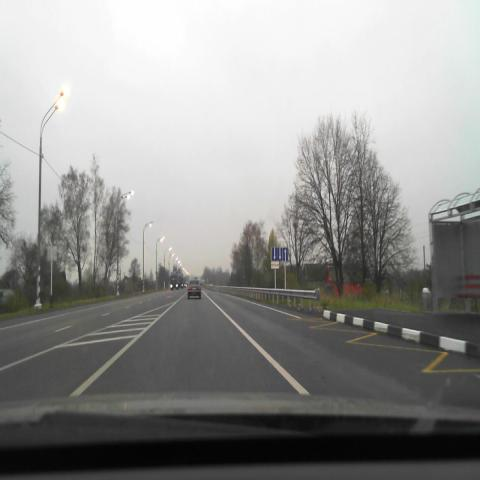5_15_7: (272, 247, 288, 262)
